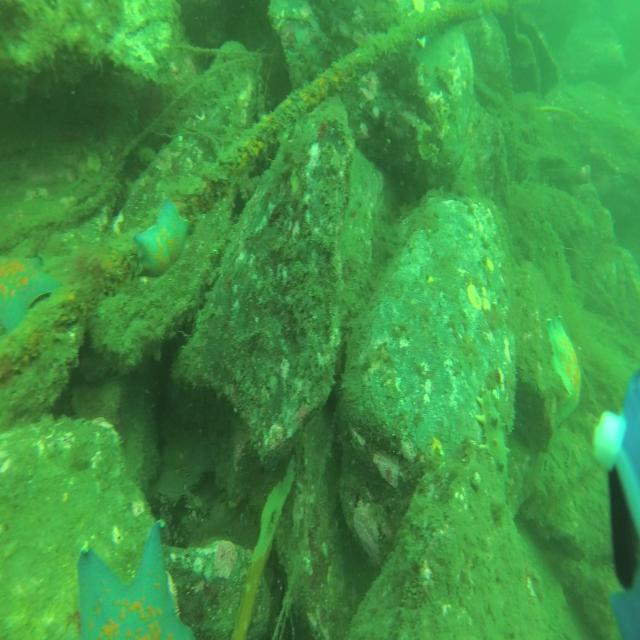holothurian: (474, 383, 512, 482)
starfish: (76, 516, 196, 640), (130, 192, 192, 281), (1, 251, 63, 333), (545, 311, 582, 431)
